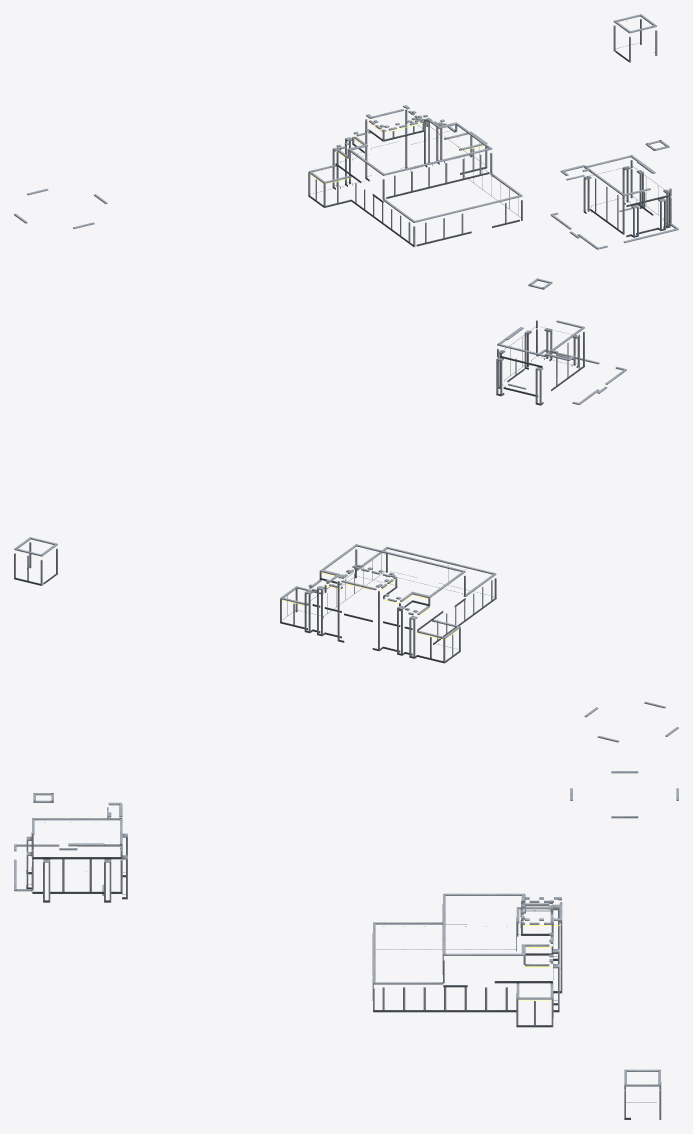
3 renders of one model, top to bottom at view 1: azimuth 30°, elevation 25°; view 2: azimuth 150°, elevation 25°; view 3: azimuth 270°, elevation 25°, orthographic. The views are drawn at different scales.
Visible parts, largest first — view 1: ch-base; view 2: ch-base; view 3: ch-base.
Part boxes in pixels (x1,y1,x2,y2): ch-base: [14, 14, 678, 249]; ch-base: [14, 278, 678, 742]; ch-base: [14, 771, 678, 1119].
Size of the model in its own units: 188 by 51.61 by 148.
1 material, 1 textured.
